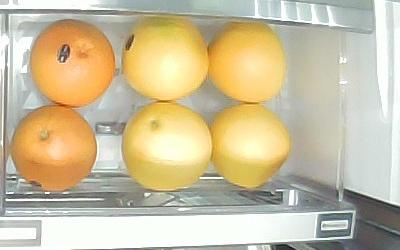grapefruit: (120, 101, 213, 191), (29, 18, 117, 109), (11, 104, 99, 192), (121, 16, 208, 102), (209, 103, 292, 192), (207, 18, 287, 104)
